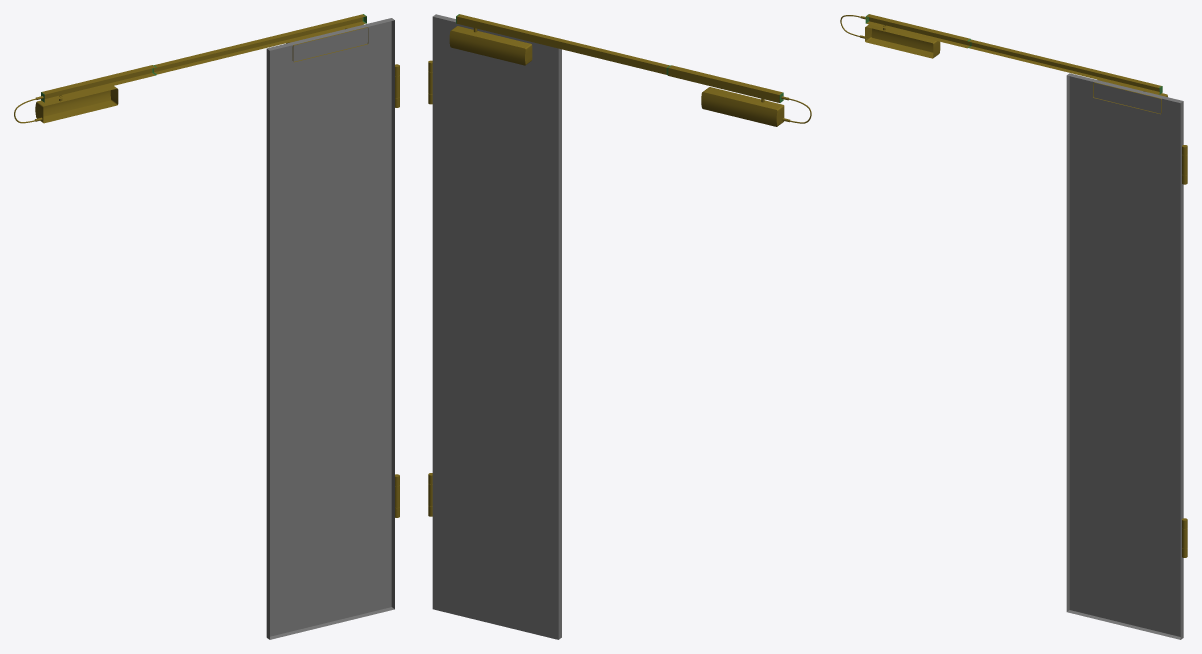
The model's file is SM_Door_Left_Frame.fbx.
3 renders of one model, left to right at view 1: azimuth 30°, elevation 25°; view 2: azimuth 150°, elevation 25°; view 3: azimuth 330°, elevation 25°, orthographic. The views are drawn at different scales.
Visible parts, largest first — view 1: SM_Door_Left_Frame; view 2: SM_Door_Left_Frame; view 3: SM_Door_Left_Frame.
Part boxes in pixels (x1,y1,x2,y2): SM_Door_Left_Frame: (14,14,399,639); SM_Door_Left_Frame: (428,14,811,639); SM_Door_Left_Frame: (840,14,1187,639).
Bounding box in the file's own units: 153 × 228 × 7.3.
